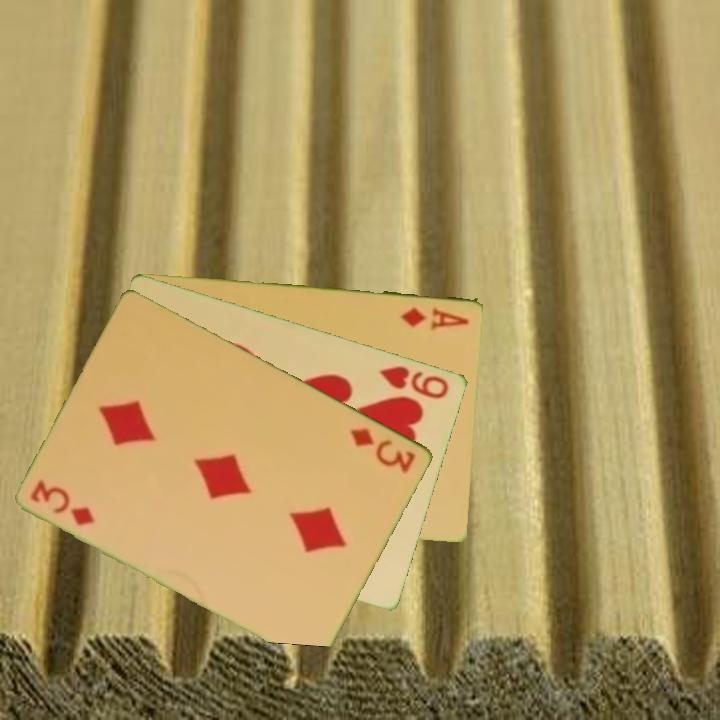3d: (347, 424, 419, 476), (27, 477, 98, 529)
9h: (376, 362, 452, 402)
Ad: (398, 303, 473, 331)
